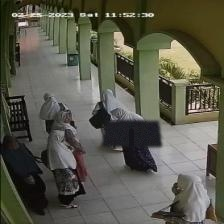Cadar_Niqab: (102, 108, 162, 146)
